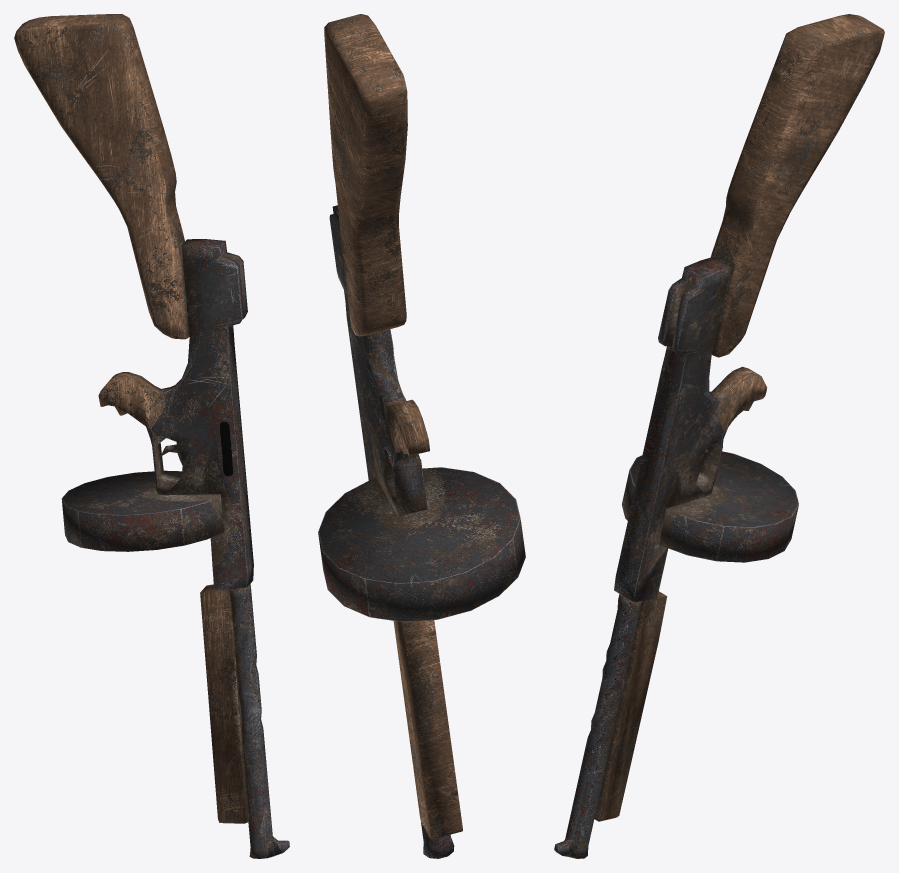
The model's file is Anim_idle_ametralladora_objetos.0033.obj.
The picture shows the model from 3 angles, left to right: view 1: azimuth 30°, elevation 25°; view 2: azimuth 150°, elevation 25°; view 3: azimuth 270°, elevation 25°; orthographic projection. The views are drawn at different scales.
Visible parts, largest first — view 1: Ametralladora1; view 2: Ametralladora1; view 3: Ametralladora1.
Boxes of the visible parts, x1,y1,x2,y2 form: Ametralladora1: (14,14,289,858); Ametralladora1: (318,14,525,858); Ametralladora1: (554,14,884,858).
Size of the model in its own units: 1.26 by 5.86 by 2.19.
